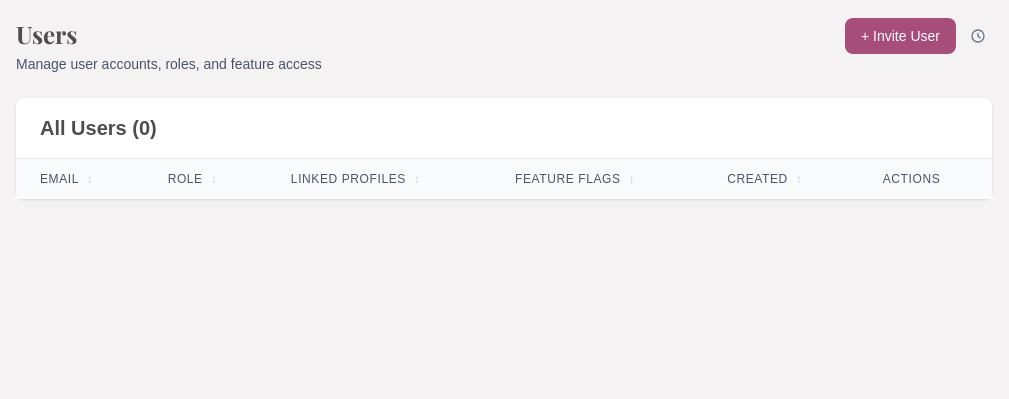
UsersClient invite form › only offers members not already linked to a user
The width and height of the screenshot is (1009, 399).
Expected: the heading "All Users (0)" is shown, left=40, top=117, right=157, bottom=139
Click the button "+ Invite User". click: (900, 36)
box: left=845, top=18, right=956, bottom=54
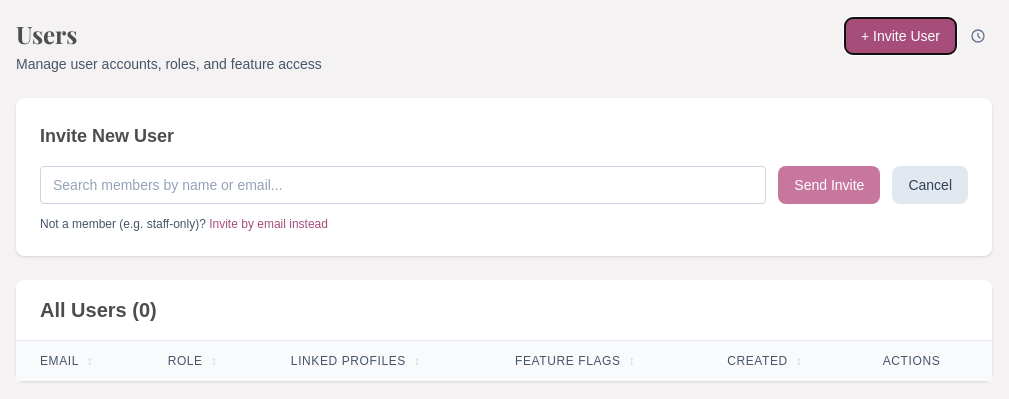
Type "example.com" into the dropdown with placeholder "Search members by name or email...". click: (403, 185)
box: left=40, top=166, right=766, bottom=204
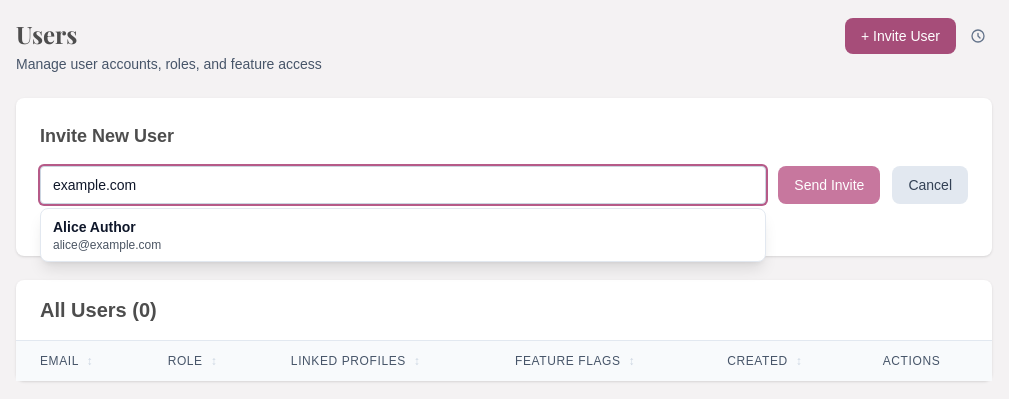
Result: the option "Alice Author alice@example.com" is shown at left=53, top=219, right=161, bottom=252
